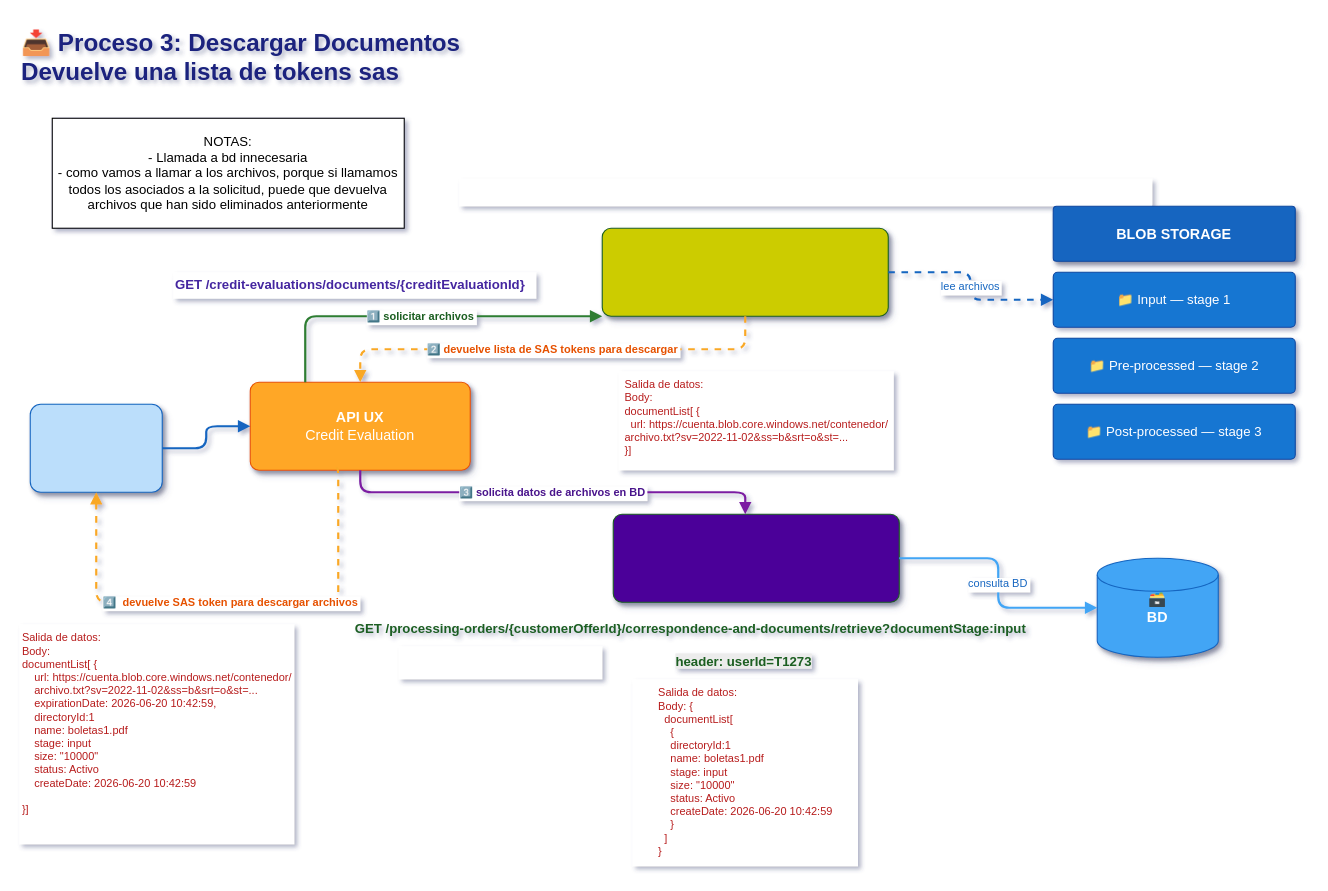
The diagram is 1328 pixels wide and 891 high, and some of its shapes have lost their labels. Each missing label, with the centre of its shape:
"API BS Document Directory Centralized Evaluation" belongs at [746,273].
"API BS Processing Order Customer Credit Rating" belongs at [757,559].
"GET /document-directories/{documentDirectoryId}retrieve?&documentStage:input" belongs at [805,192].
"por default, listamos -> status: active" belongs at [500,662].
"🖥️ Front" belongs at [97,449].
